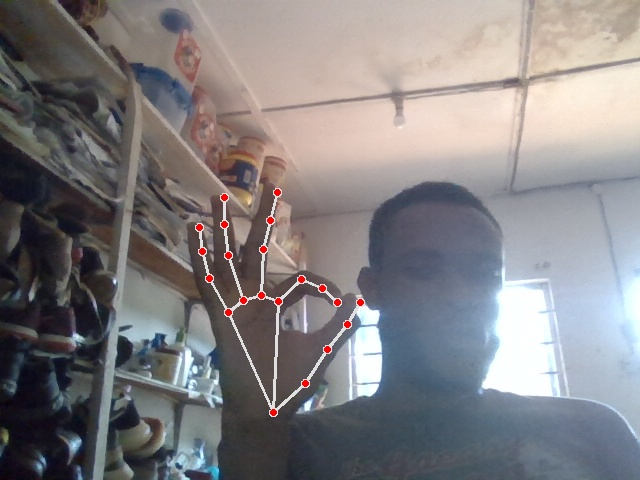okay: (188, 183, 363, 423)
